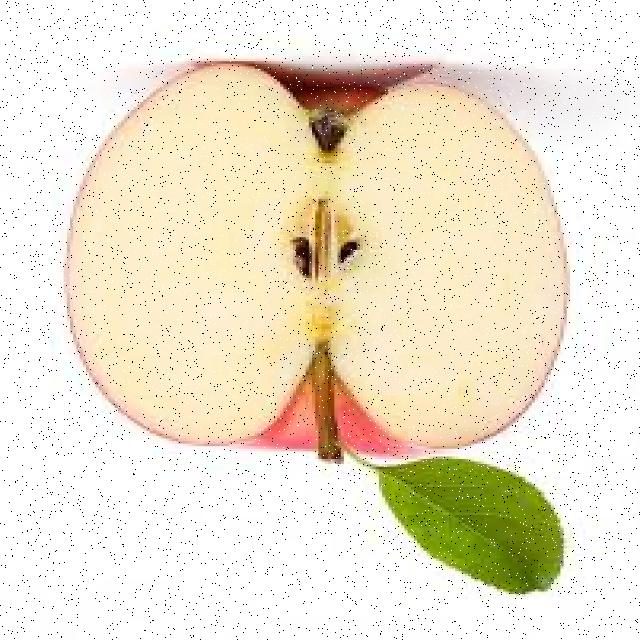Apple: (59, 73, 567, 455)
